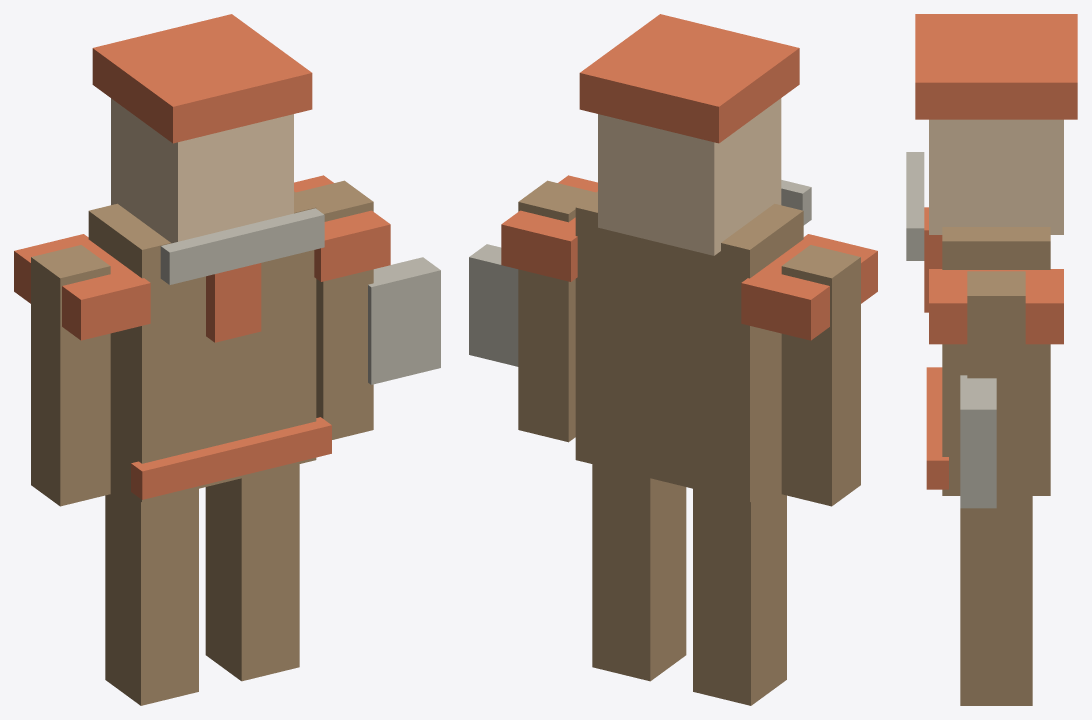
Rendered from 16_ossa_mossguard_cartographer_of_resonance.glb.
The picture shows the model from 3 angles, left to right: view 1: azimuth 30°, elevation 25°; view 2: azimuth 150°, elevation 25°; view 3: azimuth 270°, elevation 25°; orthographic projection.
Visible parts, largest first — view 1: Ossa Mossguard, Cartographer of Resonance; view 2: Ossa Mossguard, Cartographer of Resonance; view 3: Ossa Mossguard, Cartographer of Resonance.
Boxes of the visible parts, bbox=[...] form: Ossa Mossguard, Cartographer of Resonance: bbox=[14, 14, 440, 705]; Ossa Mossguard, Cartographer of Resonance: bbox=[469, 14, 877, 705]; Ossa Mossguard, Cartographer of Resonance: bbox=[906, 14, 1077, 705].
Bounding box in the file's own units: 1.06 × 1.64 × 0.4126.
